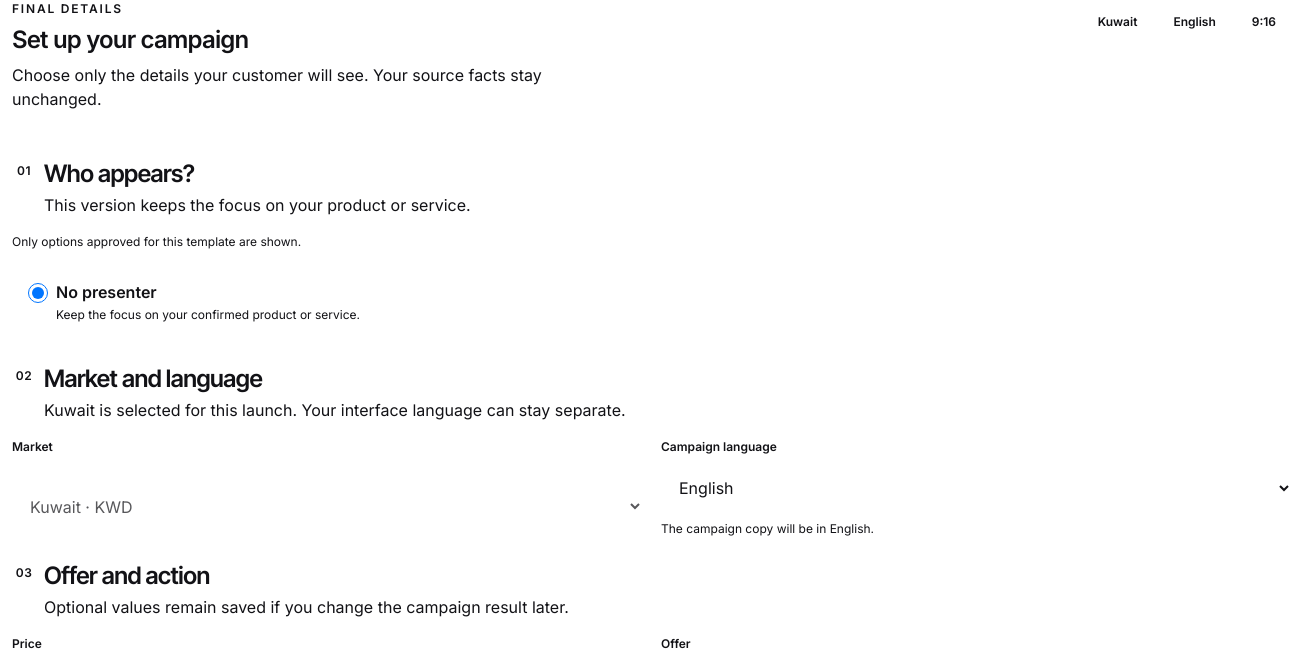
Test: CampaignSetupStep › returns to a ready price after the quote hook resolves an edited campaign
Later steps or results of the test are not shown.
Select "Kuwaiti Arabic" in the dropdown labelled "Campaign language" at (976, 488), box left=661, top=464, right=1292, bottom=512
(page scrolled)
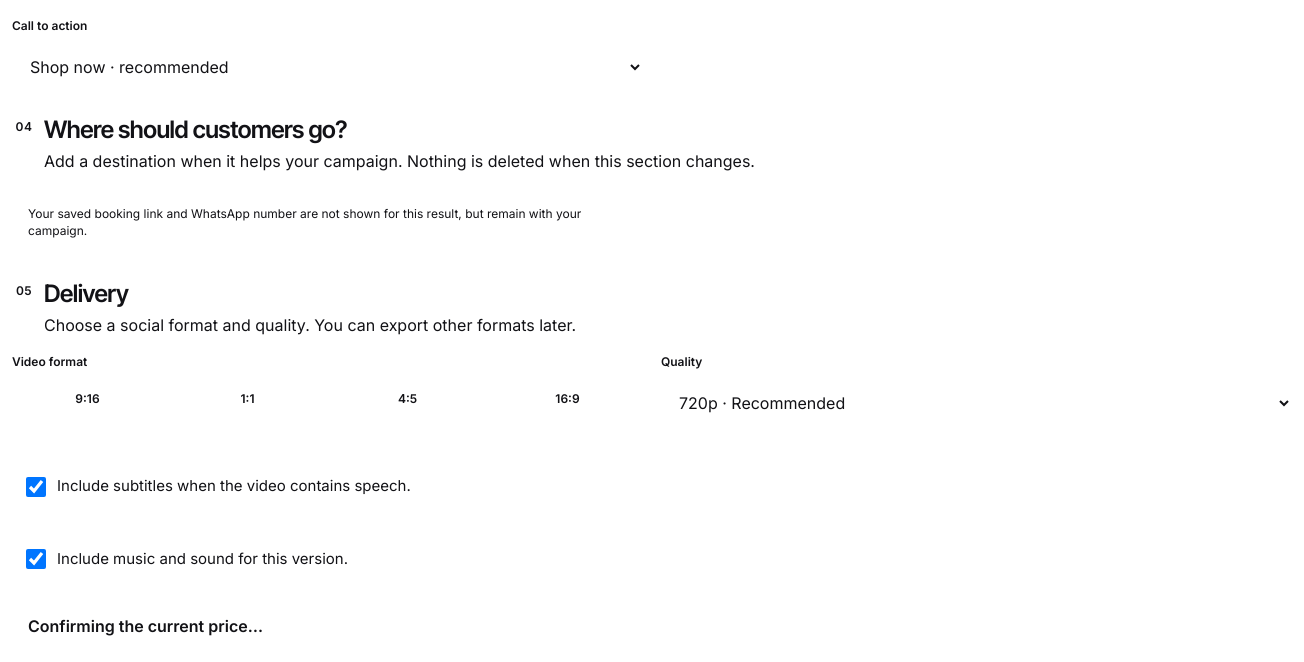
Now the text "Confirming the current price…" is shown, box left=28, top=616, right=263, bottom=636
